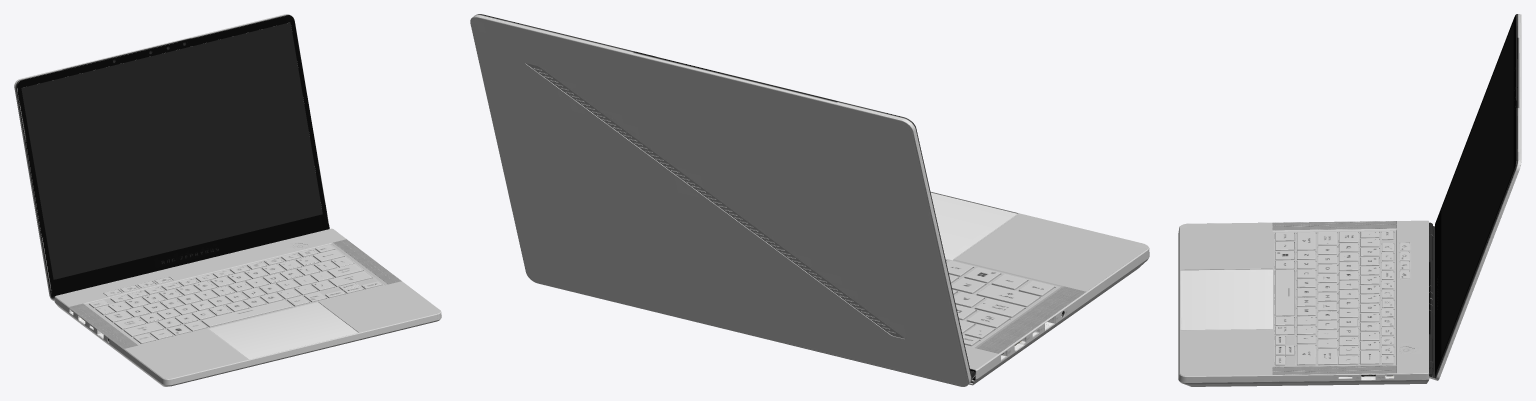
Rendered from laptop-g14-transformed.glb.
3 renders of one model, left to right at view 1: azimuth 30°, elevation 25°; view 2: azimuth 150°, elevation 25°; view 3: azimuth 270°, elevation 25°, orthographic. The views are drawn at different scales.
Parts seen in each view (by area): view 1: Object_6, Object_2, Object_5, Object_7; view 2: Object_7, Object_2, Object_5; view 3: Object_2, Object_5, Object_6, Object_7.
Boxes of the visible parts, x1=… form: Object_6: x1=21, y1=22, x2=322, y2=279; Object_2: x1=54, y1=228, x2=441, y2=386; Object_5: x1=89, y1=245, x2=381, y2=343; Object_7: x1=14, y1=14, x2=329, y2=301; Object_7: x1=470, y1=14, x2=975, y2=386; Object_2: x1=930, y1=192, x2=1149, y2=385; Object_5: x1=945, y1=259, x2=1054, y2=346; Object_2: x1=1178, y1=220, x2=1429, y2=386; Object_5: x1=1275, y1=231, x2=1409, y2=365; Object_6: x1=1441, y1=22, x2=1513, y2=356; Object_7: x1=1429, y1=14, x2=1521, y2=380.
Bounding box in the file's own units: 3.11 × 2.14 × 2.95.
Materials: 5 (4 with a texture image).
